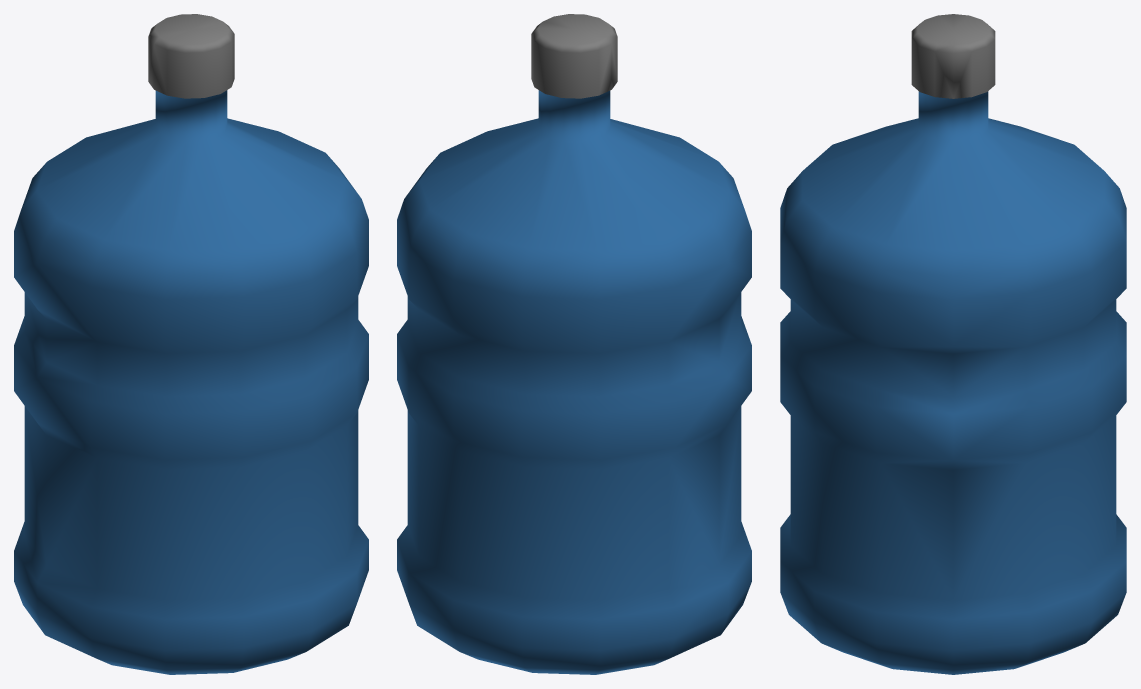
Rendered from Water_Jug.fbx.
The picture shows the model from 3 angles, left to right: view 1: azimuth 30°, elevation 25°; view 2: azimuth 150°, elevation 25°; view 3: azimuth 270°, elevation 25°; orthographic projection.
Parts seen in each view (by area): view 1: BunkerFoodWaterJug_a; view 2: BunkerFoodWaterJug_a; view 3: BunkerFoodWaterJug_a.
Part boxes in pixels (bbox=[...]): BunkerFoodWaterJug_a: bbox=[14, 14, 368, 674]; BunkerFoodWaterJug_a: bbox=[397, 14, 751, 674]; BunkerFoodWaterJug_a: bbox=[780, 14, 1126, 674].
Size of the model in its own units: 0.7072 by 1.29 by 0.6894.
